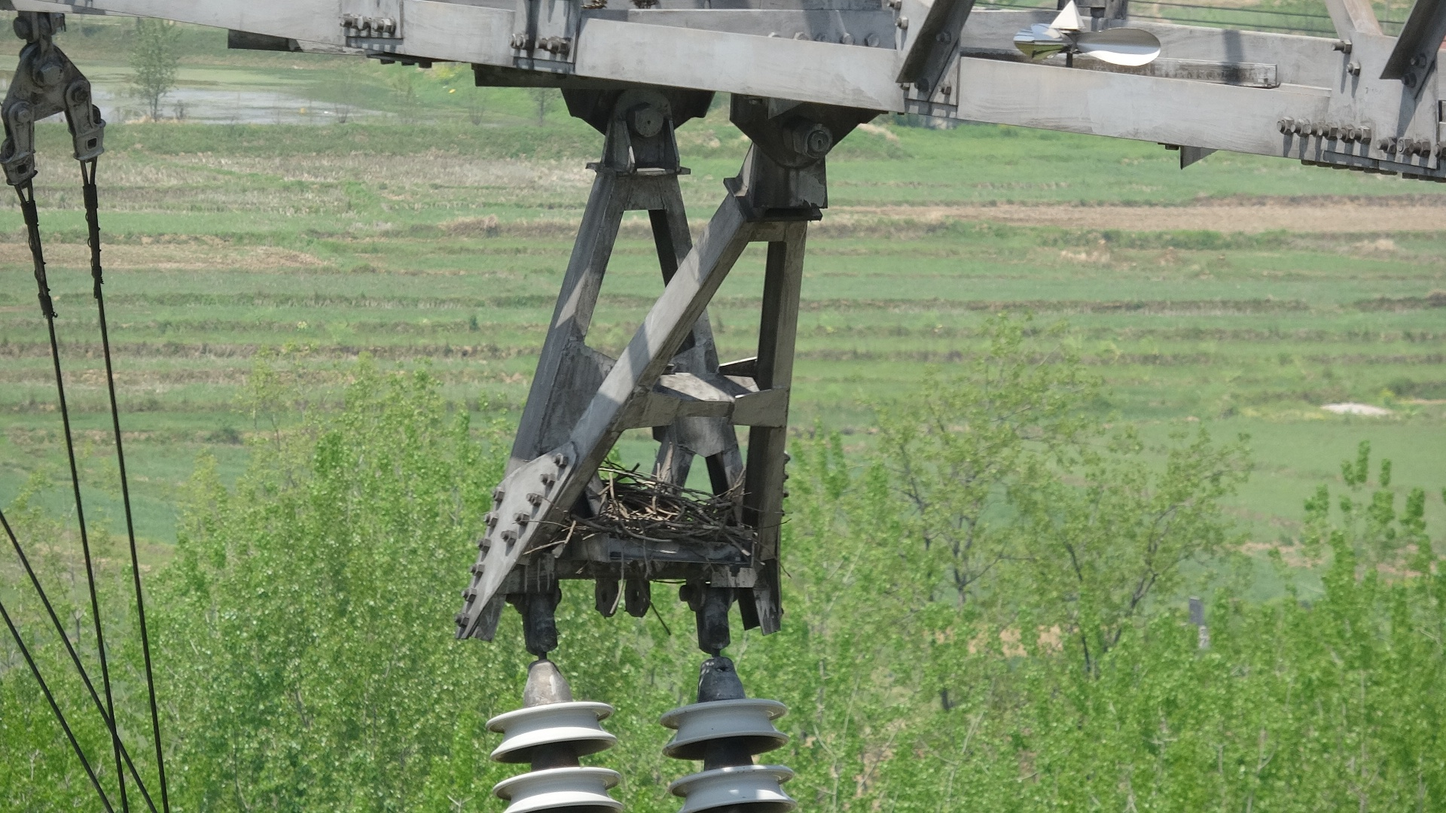insulator: (474, 690, 635, 813), (648, 688, 802, 813)
